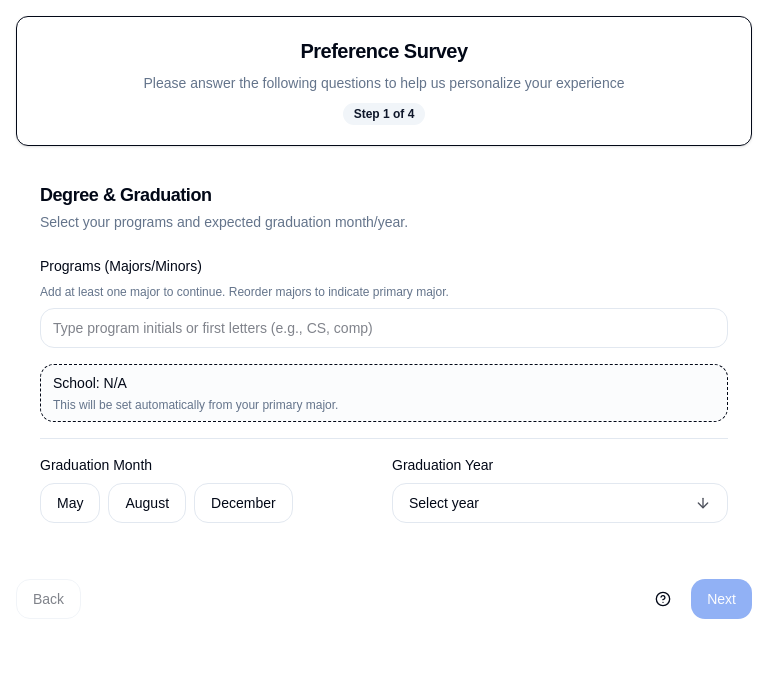
Scenario: Onboard survey › selecting CS adds Computer Science major and shows Whiting School of Engineering
Type "CS" into the field with test id "program-search" at [384, 328], box [40, 308, 728, 348]
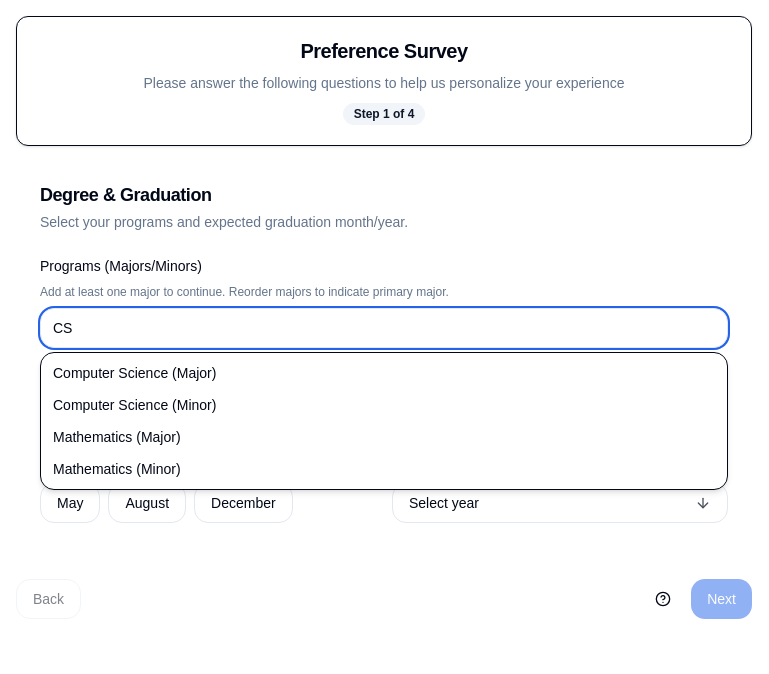
Click the button "Computer Science (Major)" at [135, 373], box [45, 357, 723, 389]
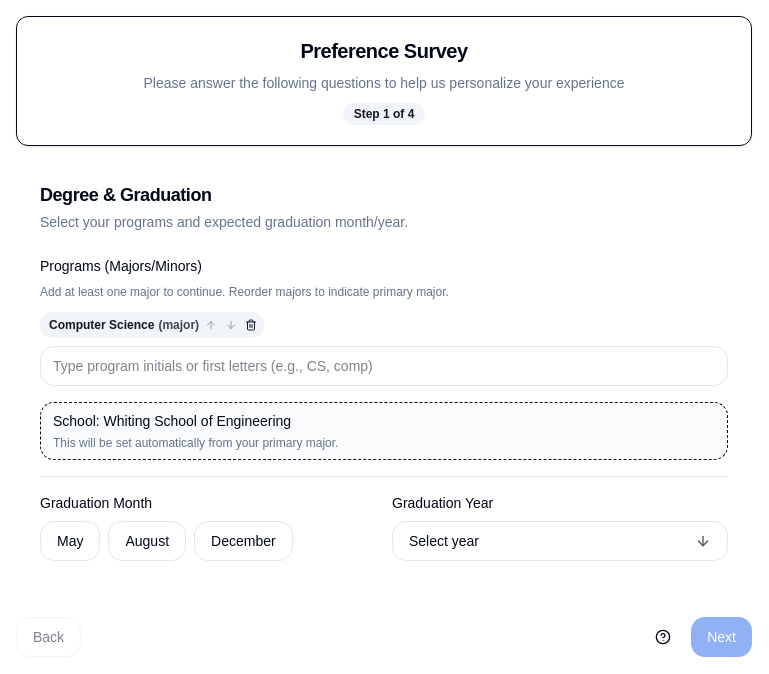
Check: the text "Computer Science" is shown, box [49, 317, 154, 333]
Check: the element with test id "school-display" shows "Whiting School of Engineering", box [104, 413, 291, 429]
